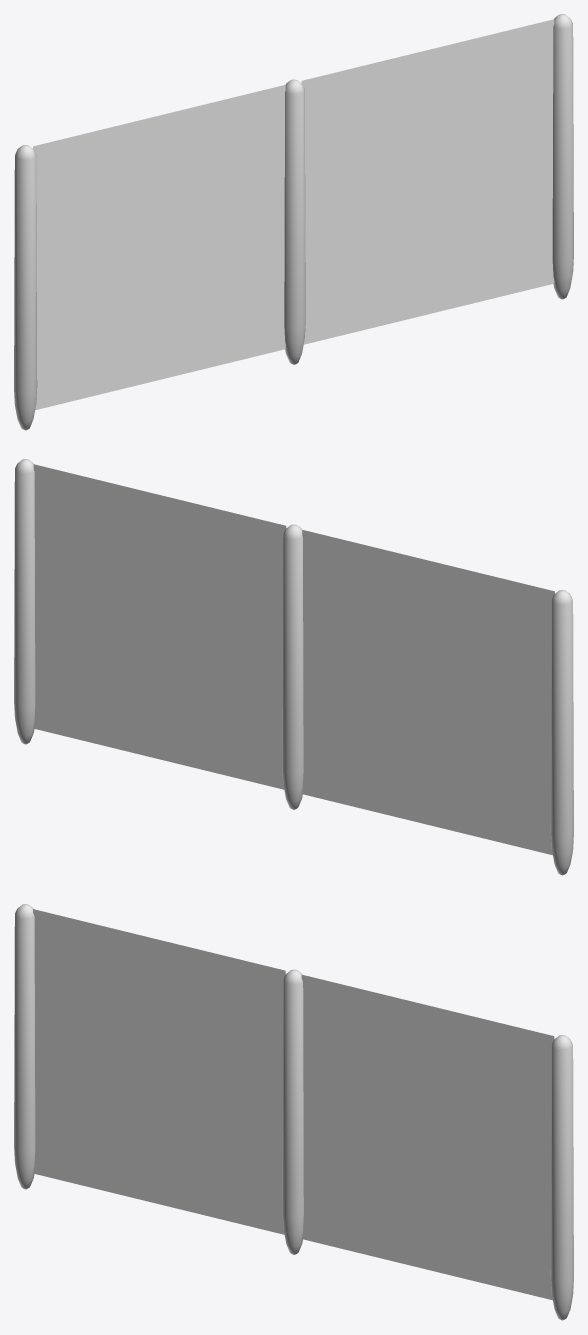
Rendered from SM_Fence.fbx.
3 views of the same model, one above another, from view 1: azimuth 30°, elevation 25°; view 2: azimuth 150°, elevation 25°; view 3: azimuth 330°, elevation 25° (orthographic).
Visible parts, largest first — view 1: SM_Fence; view 2: SM_Fence; view 3: SM_Fence.
Part boxes in pixels (x1=…): SM_Fence: x1=14, y1=14, x2=573, y2=430; SM_Fence: x1=14, y1=459, x2=573, y2=875; SM_Fence: x1=14, y1=904, x2=573, y2=1320.
Bounding box in the file's own units: 1367 × 670 × 50.47.
2 materials, 1 textured.
